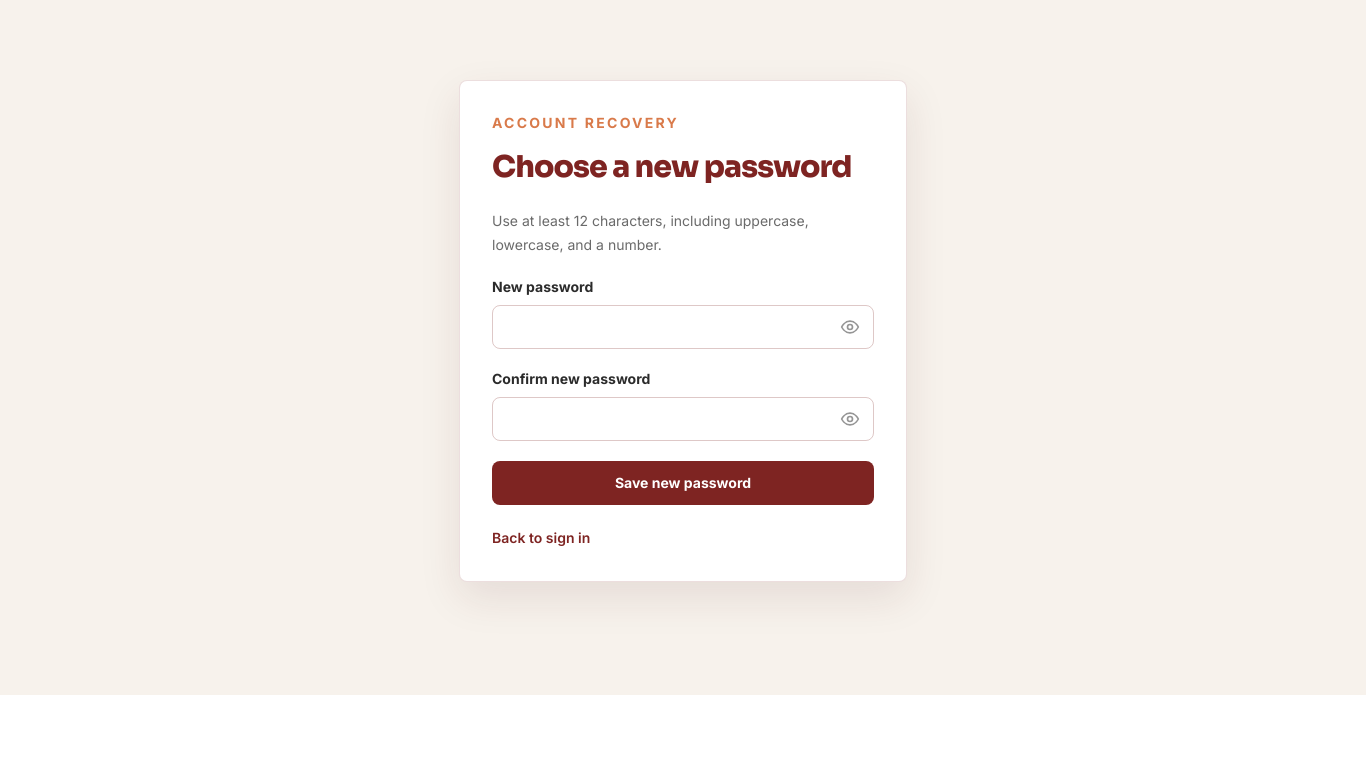
Test: ResetPasswordPage › resets the password and shows the success state
Type "Fresh-password-2026!" into the password field labelled "New password".
click(683, 327); type("Fresh-password-2026!")  # box [492,305,874,349]
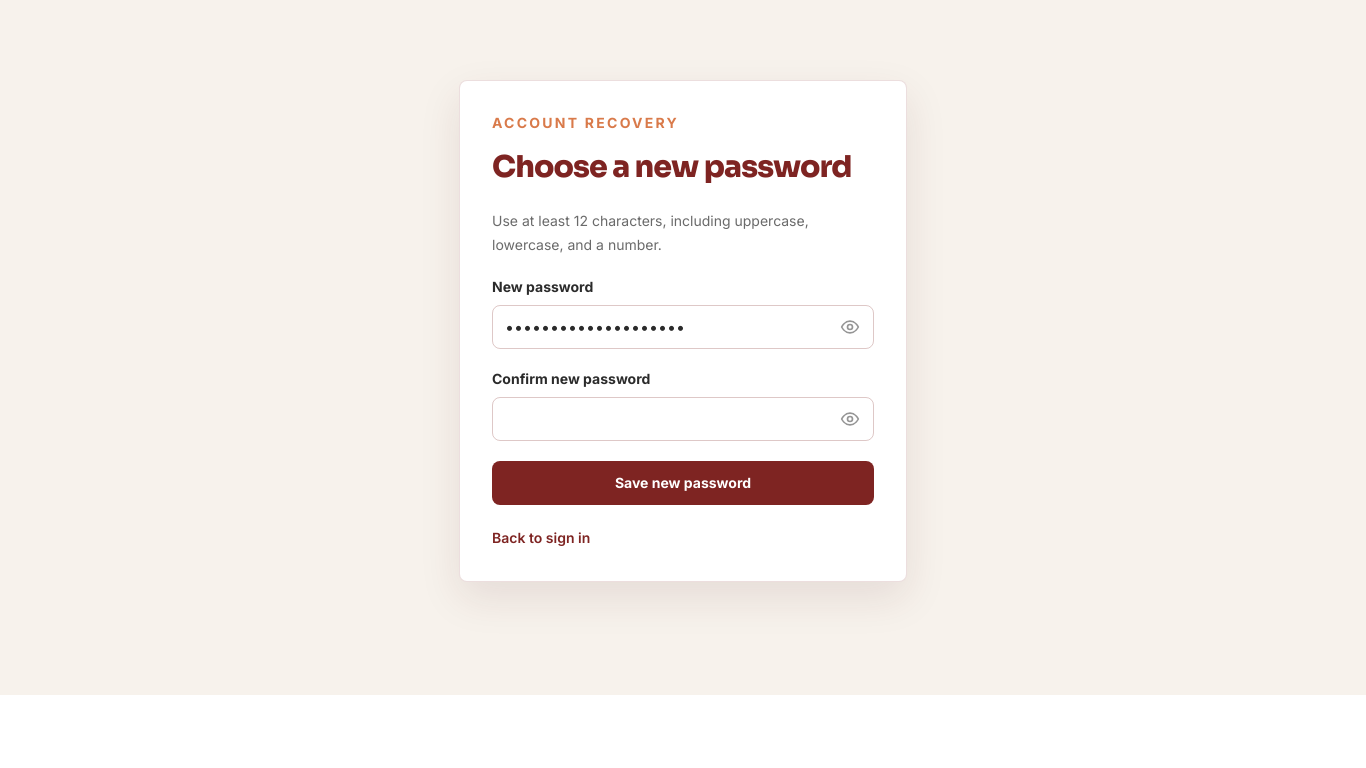
Type "Fresh-password-2026!" into the password field labelled "Confirm new password".
click(683, 419); type("Fresh-password-2026!")  # box [492,397,874,441]
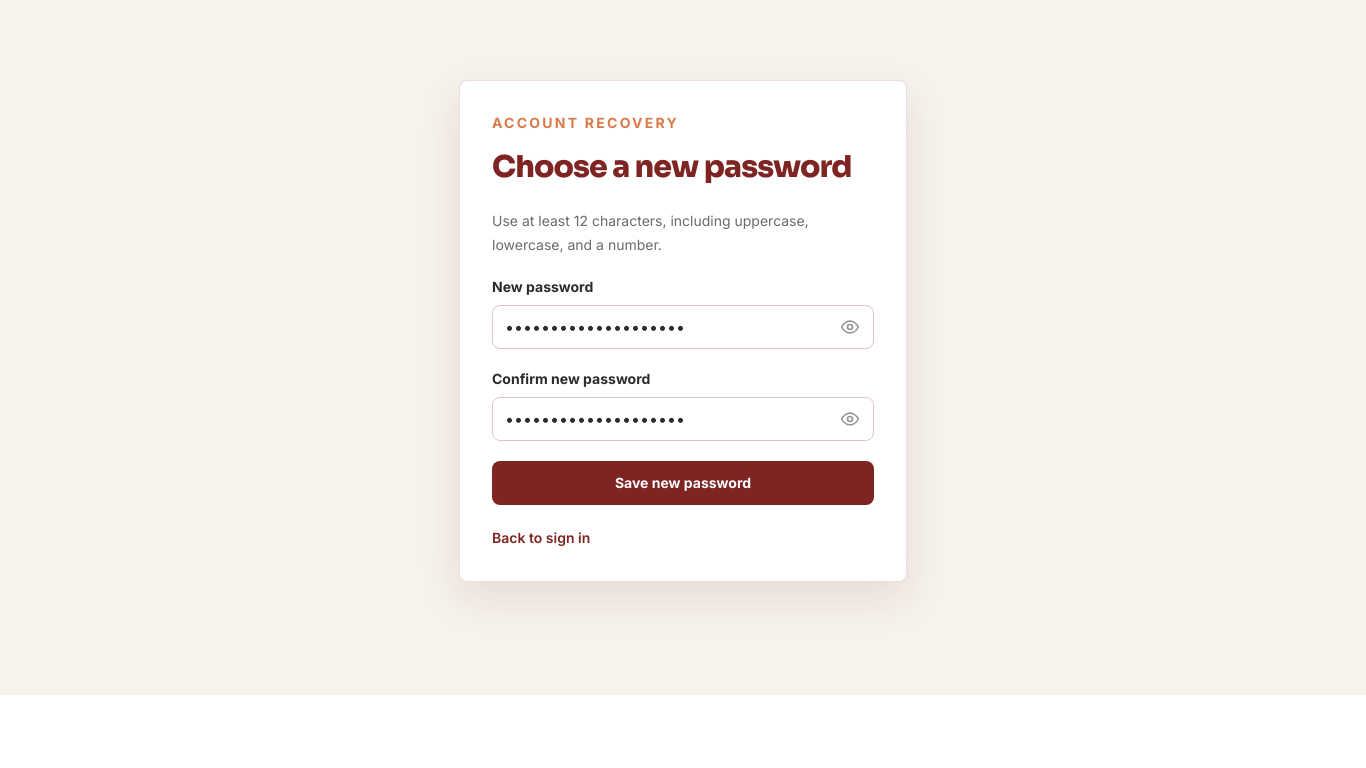
Click the button "Save new password".
click(683, 483)  # box [492,461,874,505]
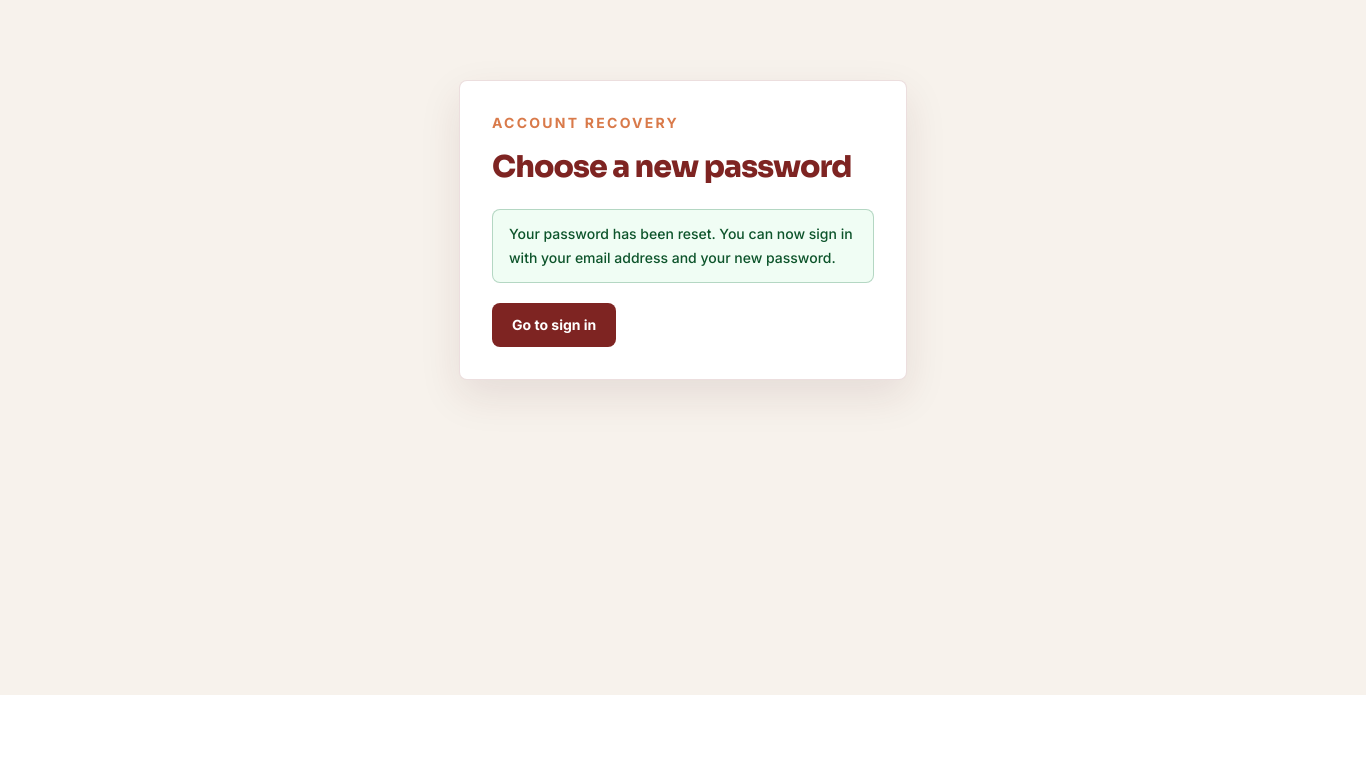
Result: the text "Your password has been reset" is shown at [509,225,853,266]
